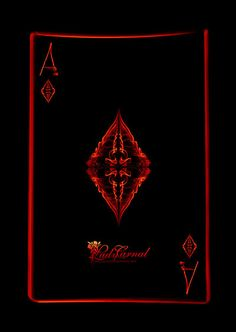ace of diamonds: (28, 33, 208, 302)
